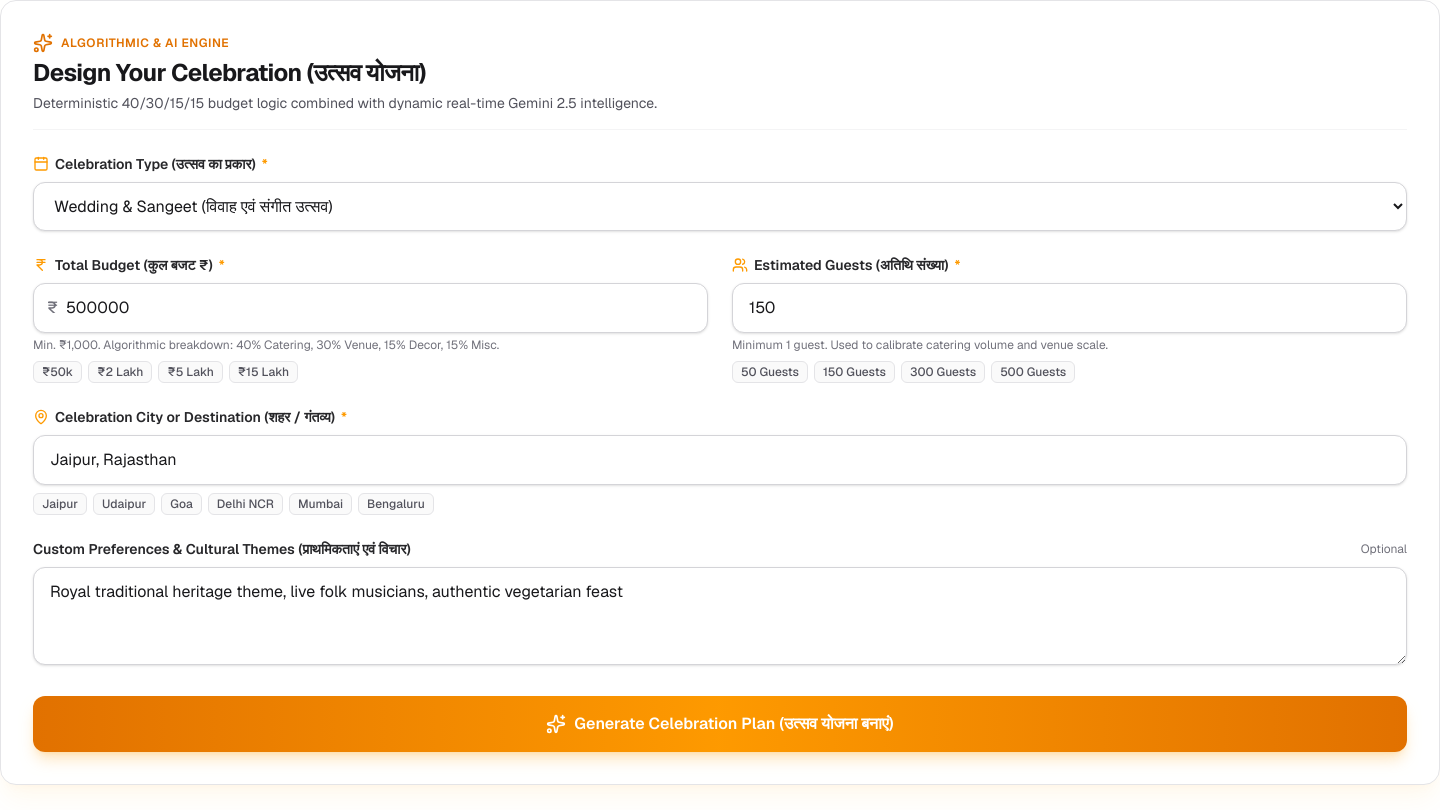
Scenario: Day 2: UI, Dashboard & Accessibility Tests › 1. EventForm Component & Accessibility › should display validation error when location is empty or whitespace
This screenshot has width=1440, height=810.
Clear the field named "Event location or city" at (720, 460), box x1=33 y1=435 x2=1407 y2=485
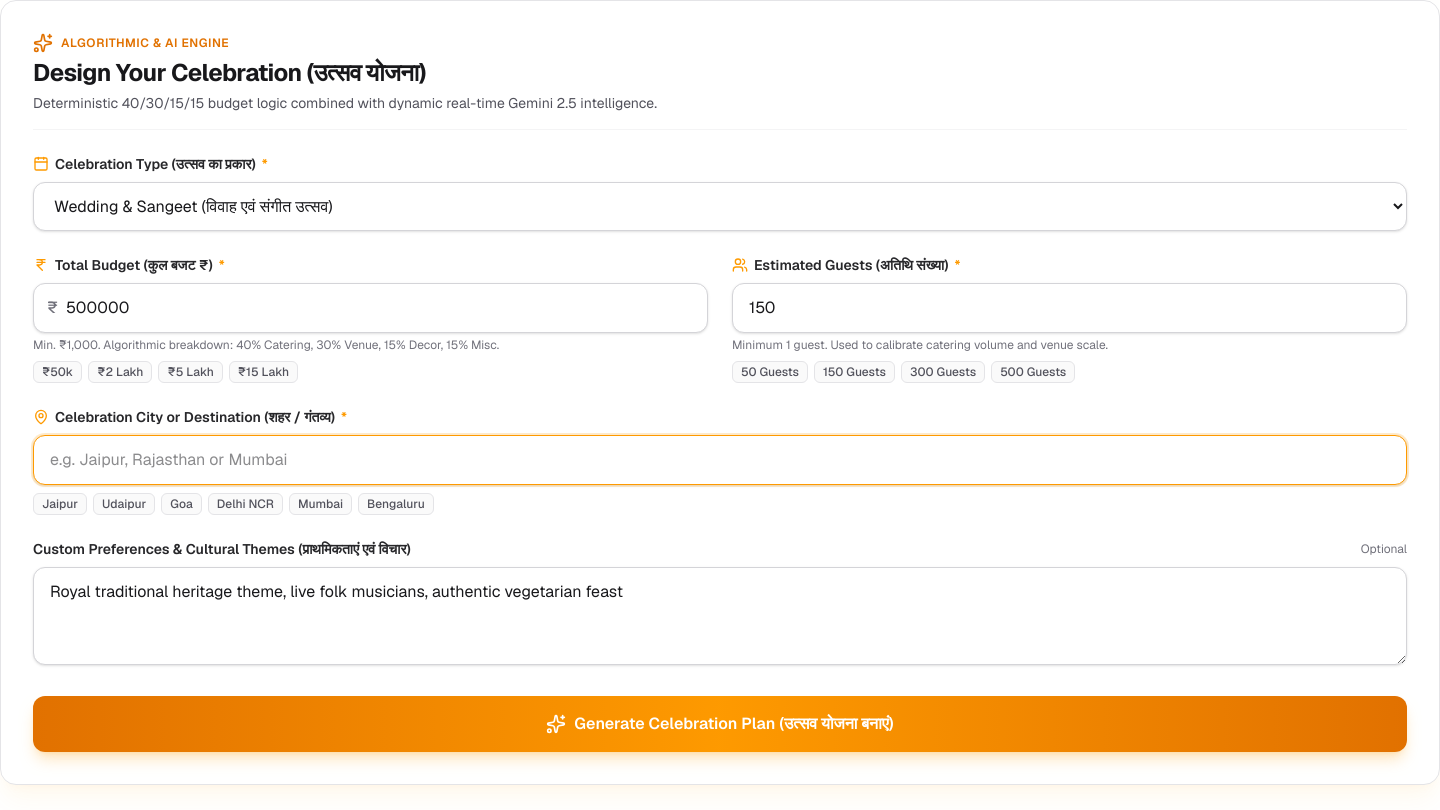
Click the button "Generate Celebration Plan (उत्सव योजना बनाएं)" at (720, 724), box x1=33 y1=696 x2=1407 y2=752
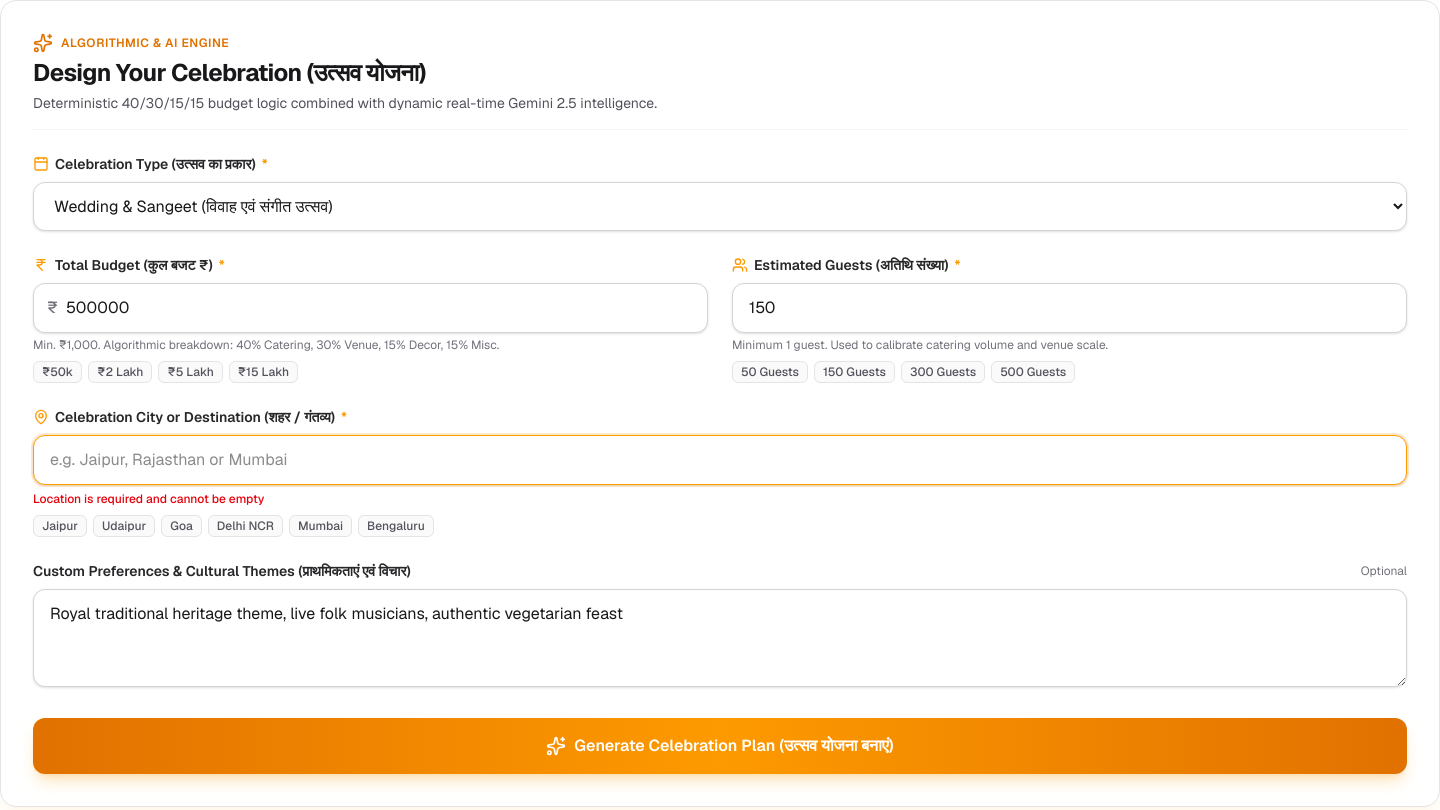
Expected: the text "Location is required and cannot be empty" is shown, x1=33 y1=491 x2=264 y2=507
